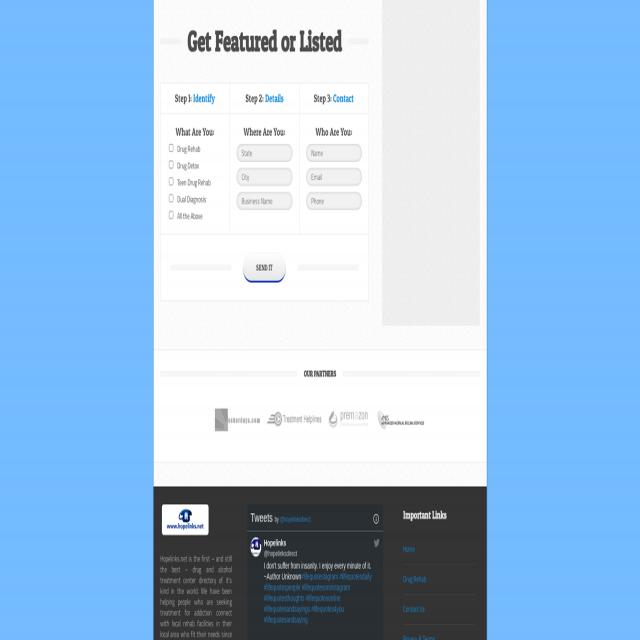button: (162, 505, 208, 534), (264, 408, 327, 428), (243, 253, 286, 282), (377, 409, 425, 432), (215, 409, 260, 431), (328, 409, 369, 430), (250, 536, 262, 558), (372, 538, 381, 549)
field: (236, 144, 292, 162), (306, 144, 362, 162), (236, 168, 292, 186), (306, 168, 362, 186), (236, 192, 292, 210), (306, 192, 362, 210), (169, 144, 173, 152), (169, 160, 173, 168), (169, 194, 173, 202), (169, 211, 173, 219), (169, 178, 173, 185)
